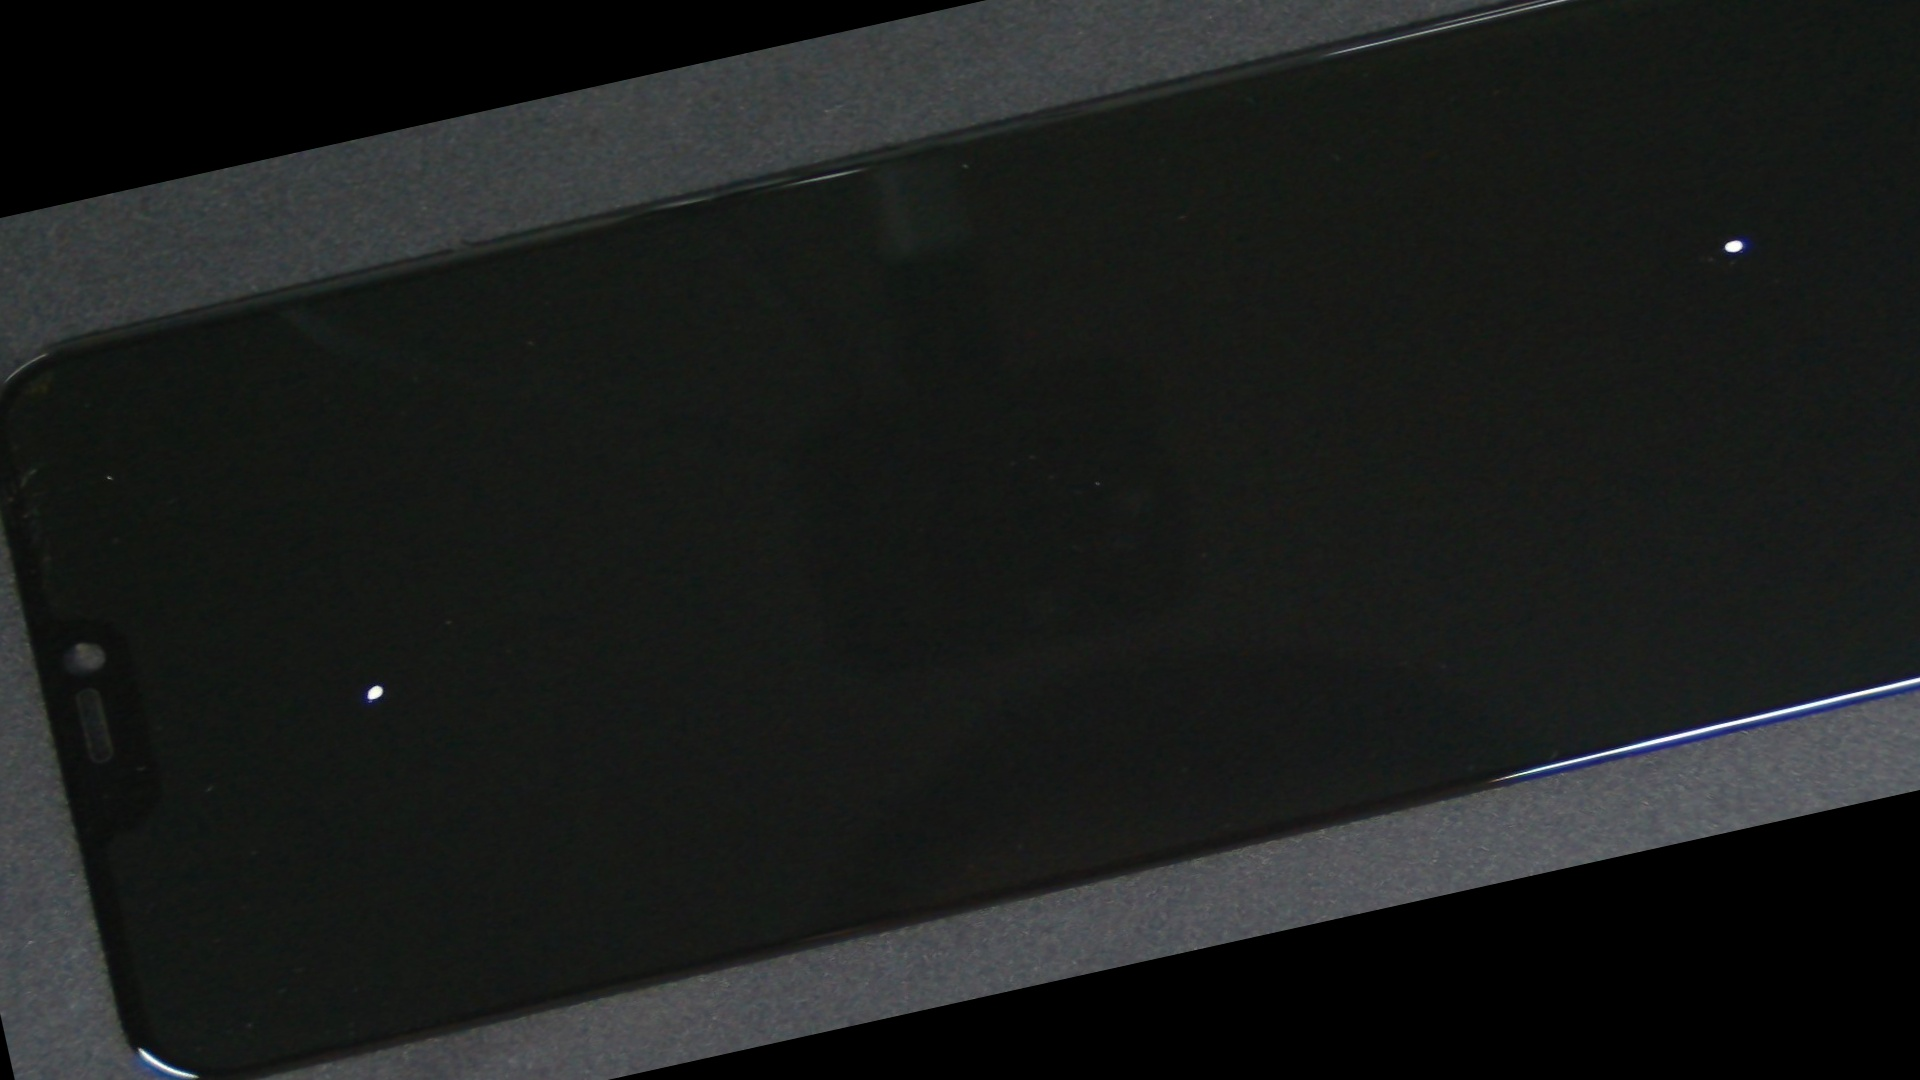oil: (779, 0, 1920, 633), (105, 375, 650, 994)
